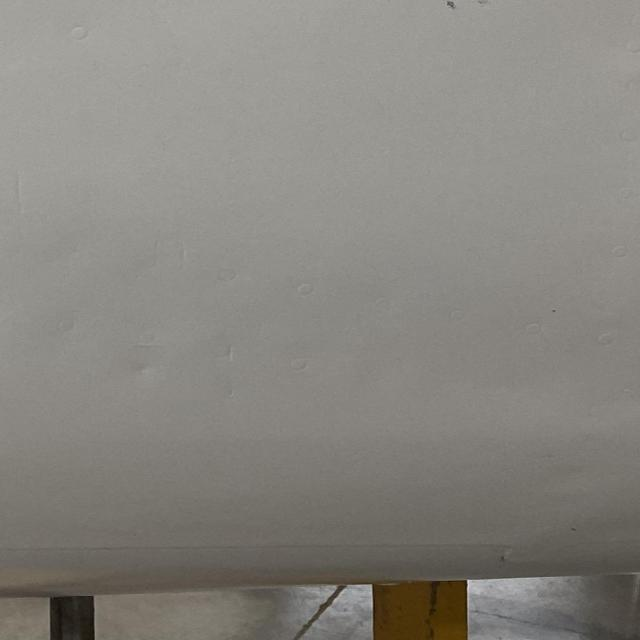Paint-off: (126, 351, 175, 389)
